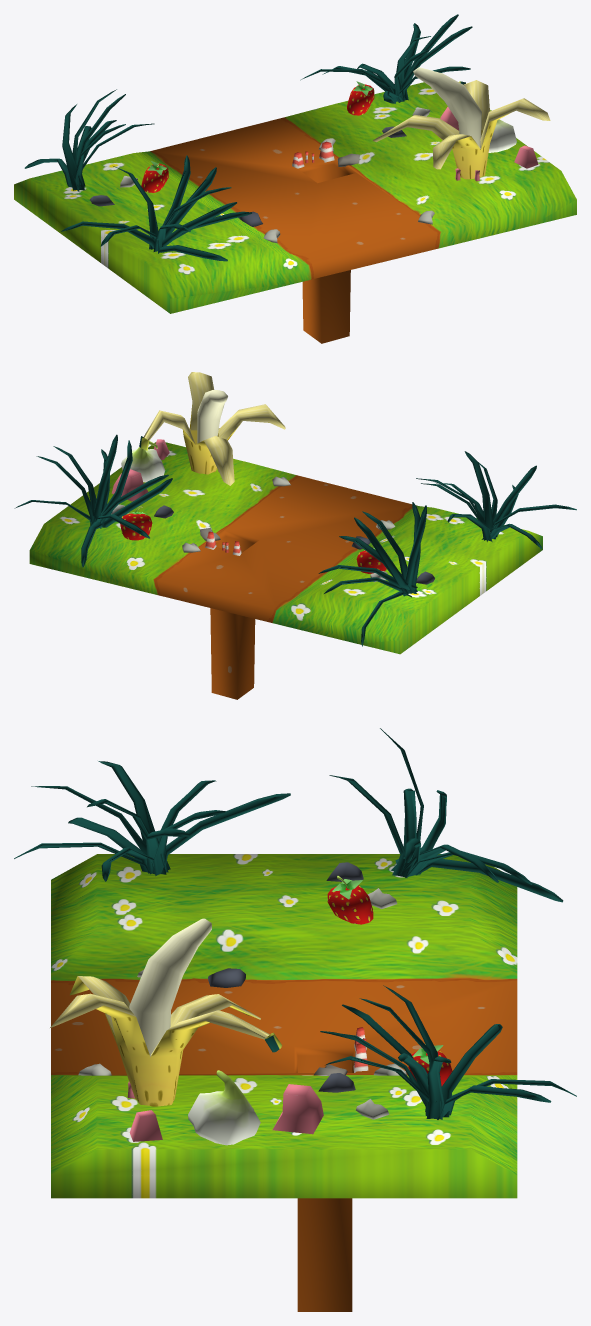
The model's file is D_block_20.FBX.
3 views of the same model, one above another, from view 1: azimuth 30°, elevation 25°; view 2: azimuth 150°, elevation 25°; view 3: azimuth 270°, elevation 25° (orthographic). The views are drawn at different scales.
Visible parts, largest first — view 1: sol; view 2: sol; view 3: sol.
Boxes of the visible parts, x1=… form: sol: x1=14, y1=14, x2=576, y2=343; sol: x1=14, y1=372, x2=576, y2=699; sol: x1=14, y1=728, x2=576, y2=1311.
Bounding box in the file's own units: 1056 × 598 × 724.
